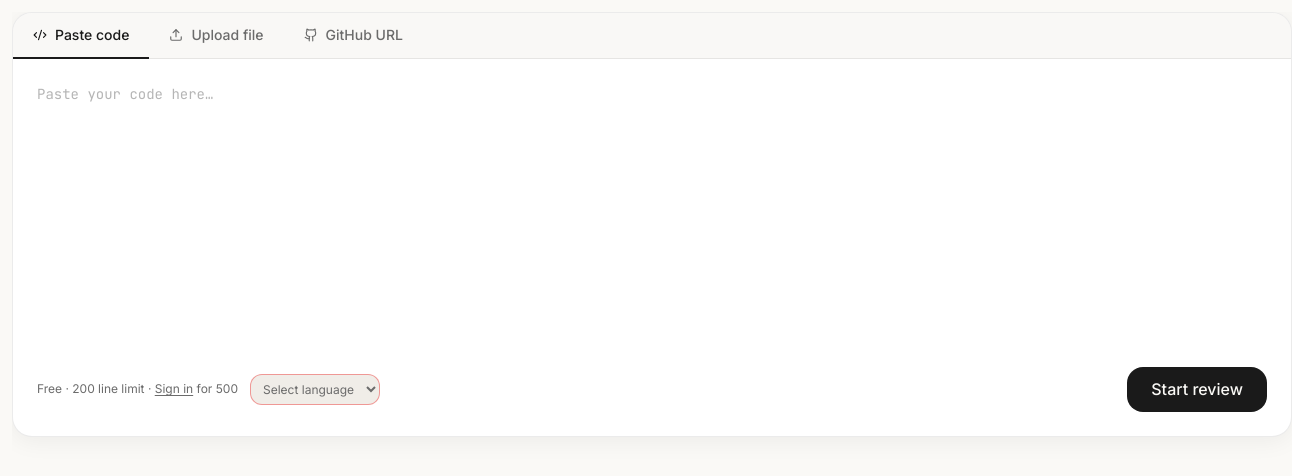
Test case: InputPanel — paste tab › submit button shows loading state during submission
Type "def foo(): pass" into the text box with placeholder "Paste your code here…". click: x=652, y=211
box: [37,83,1267,339]
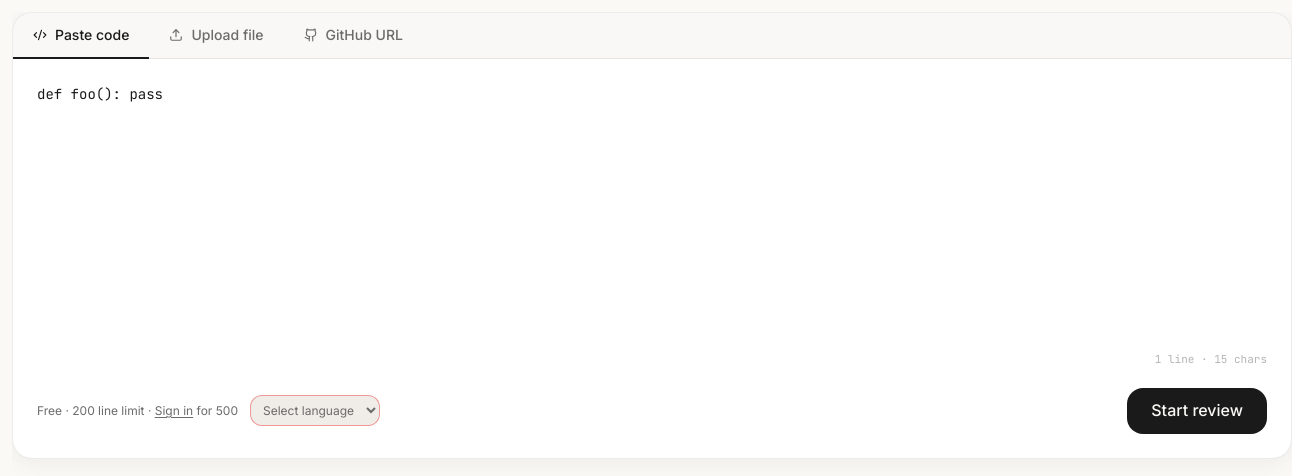
Select "Python" in the dropdown. click: x=315, y=411
box: [250,396,380,426]
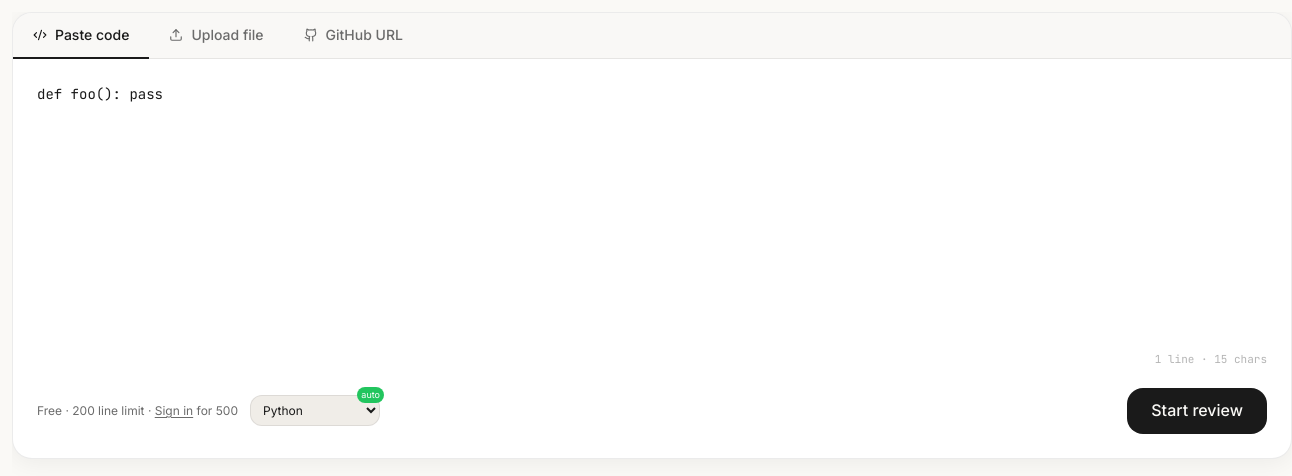
Click the button "Start review". click: x=1197, y=411
box: [1127,388,1267,434]
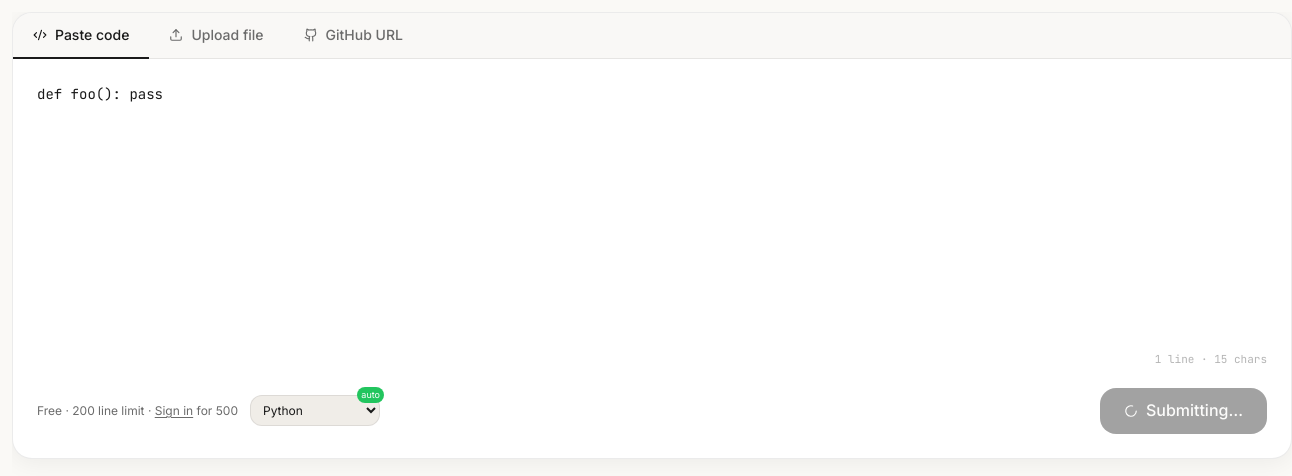
Check: the button "Submitting…" is disabled, box [1100,388,1267,434]
